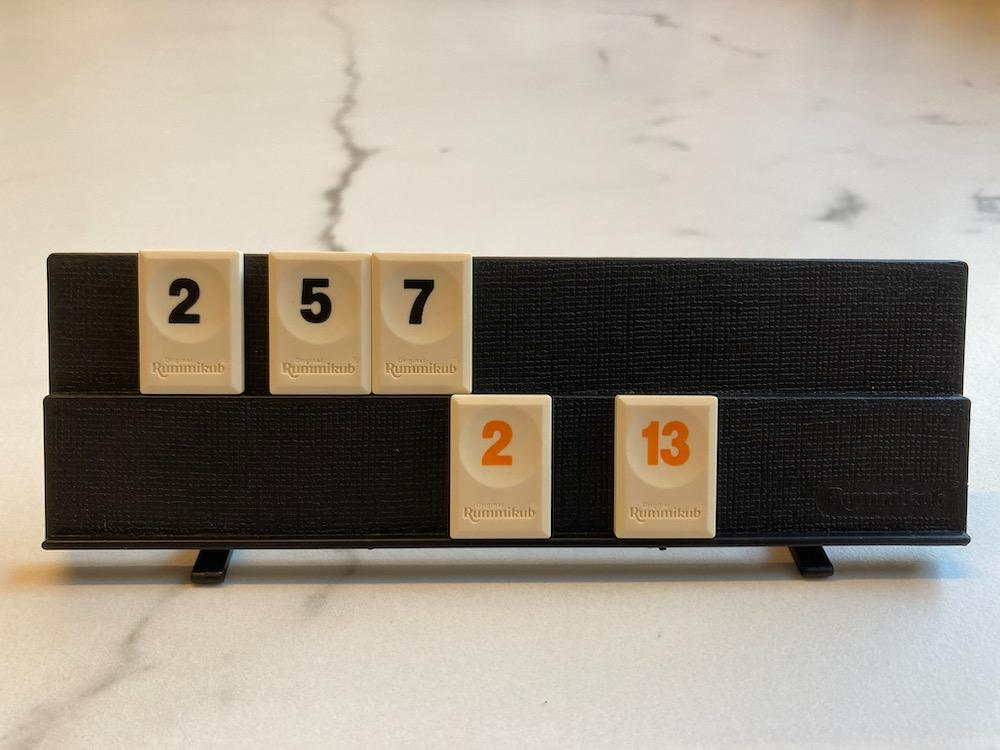black_2: (139, 252, 242, 395)
black_5: (270, 252, 371, 395)
black_7: (373, 254, 471, 393)
orange_13: (615, 395, 717, 539)
orange_2: (451, 397, 551, 539)
